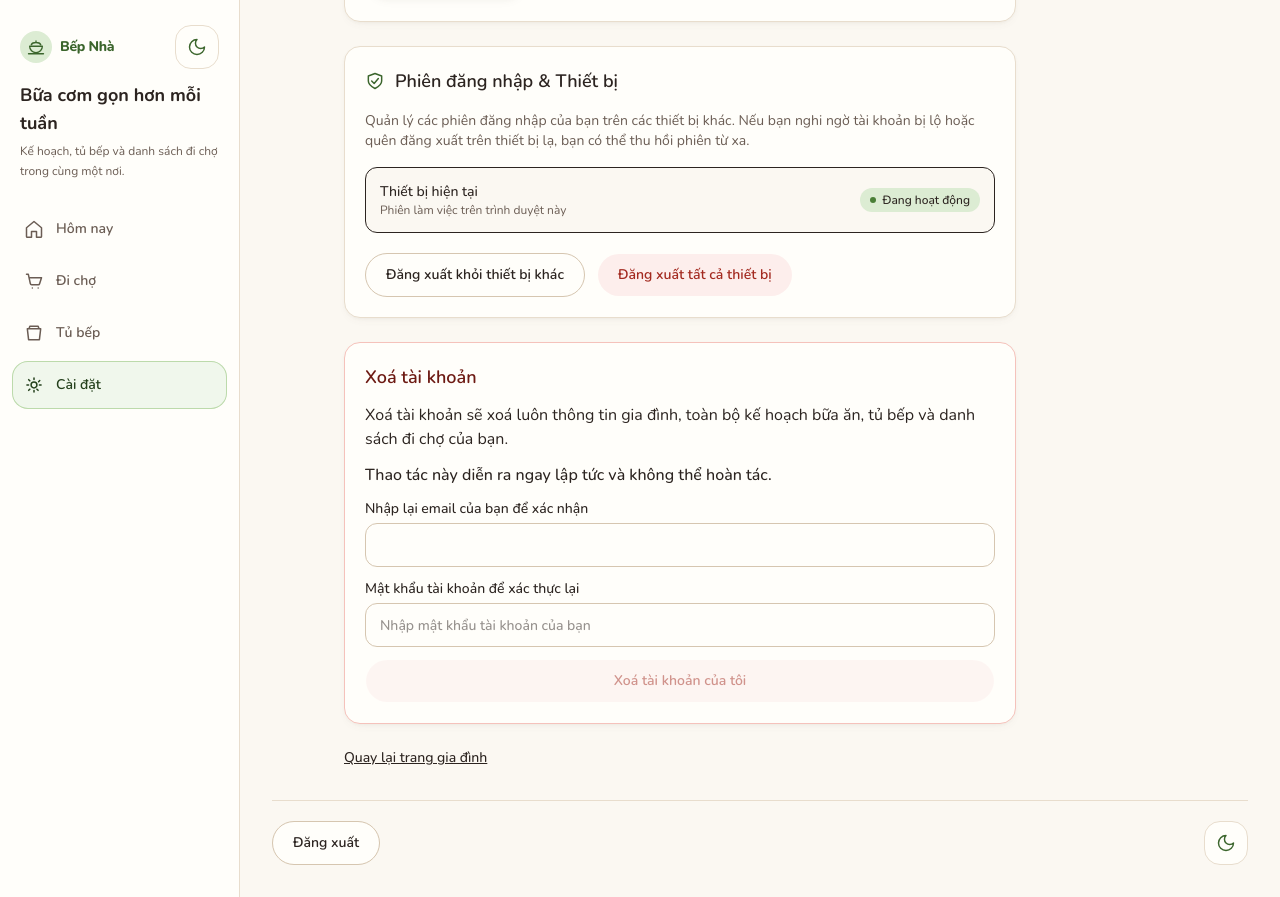
Test: account deletion › rejects deletion when security confirmation password is incorrect
(page scrolled)
In the field labelled "Nhập lại email của bạn để xác nhận": (680, 545) [365,523,995,567], type "chu-nha@example.com"
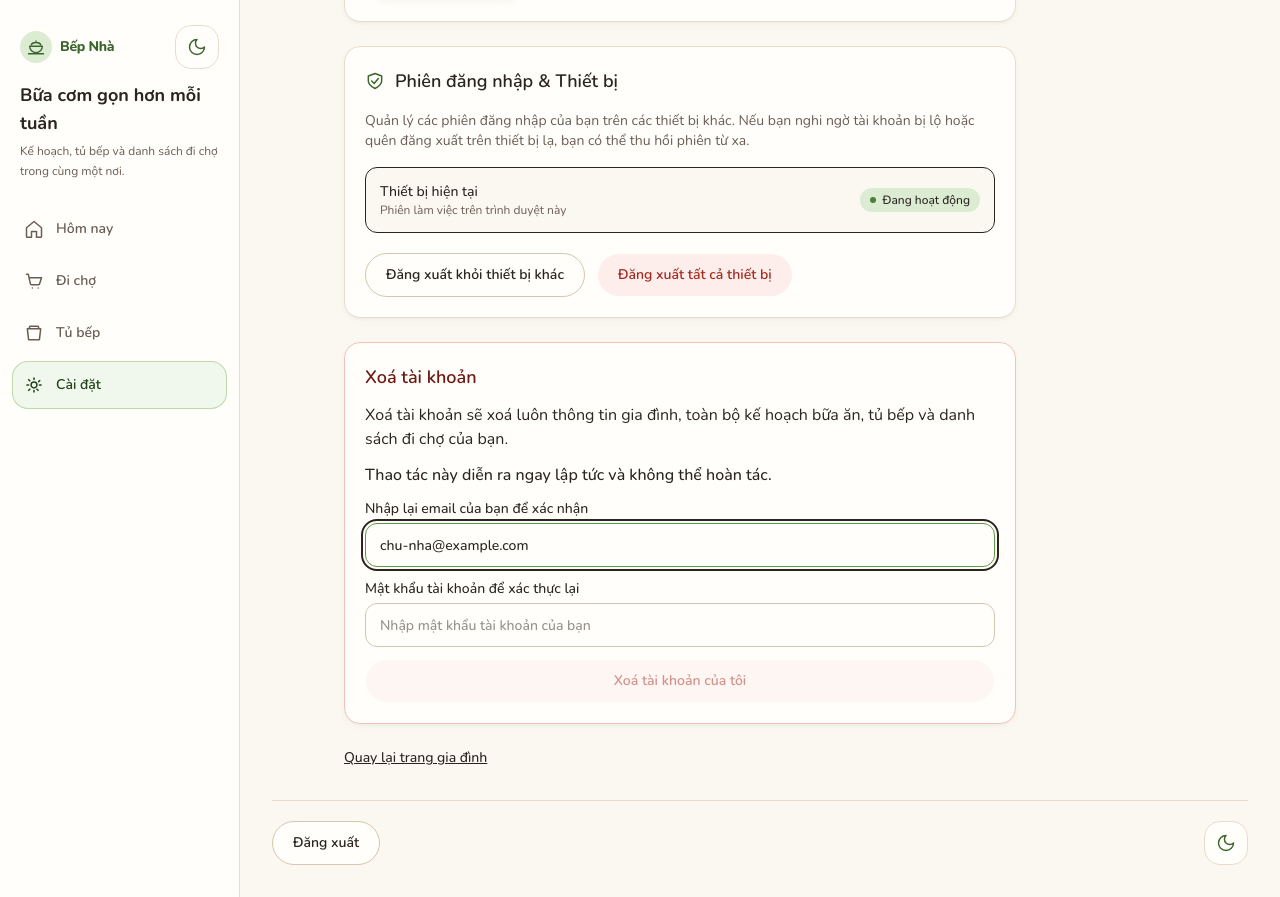
In the password field labelled "Mật khẩu tài khoản để xác thực lại": (680, 625) [365,603,995,647], type "wrong-pass"
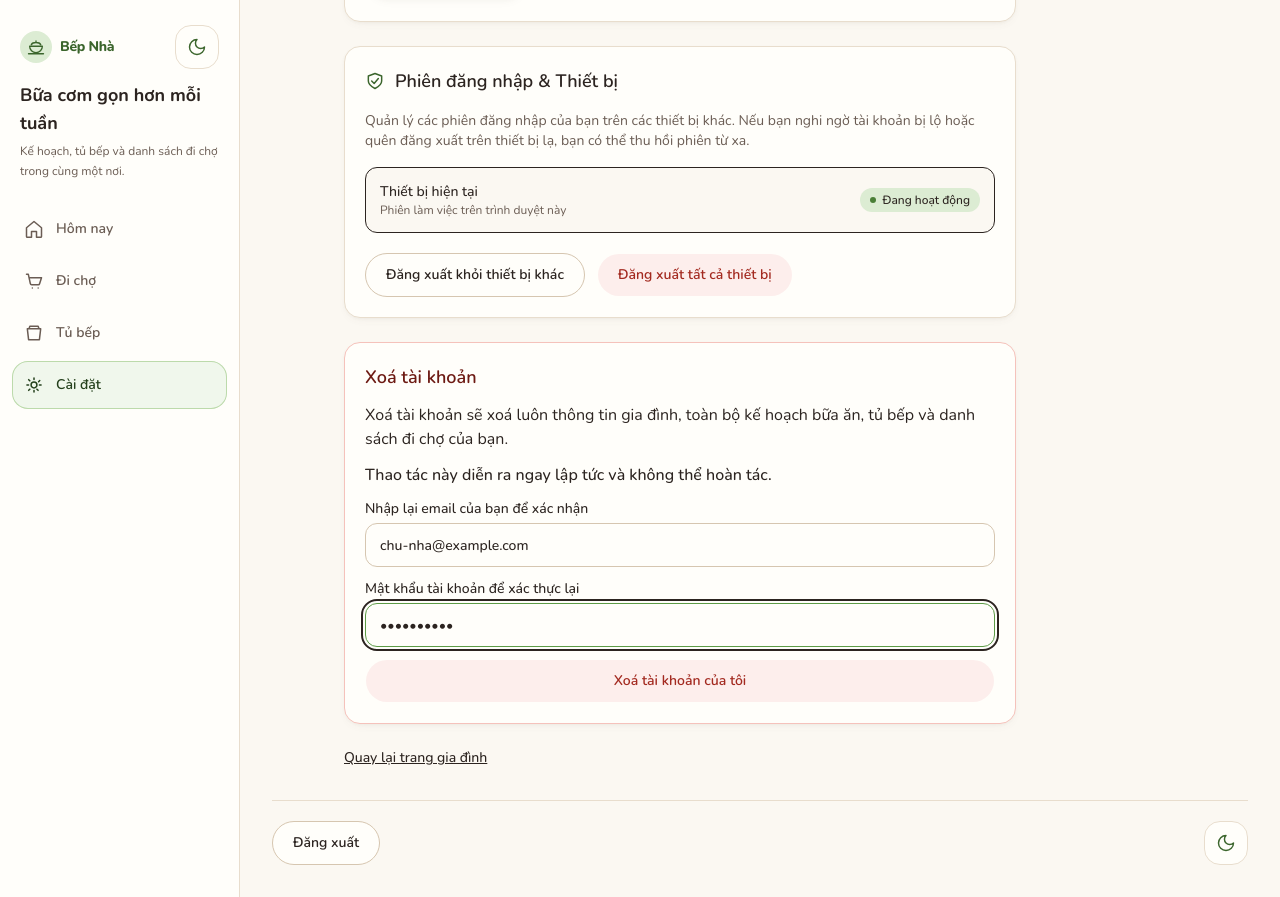
Click the button "Xoá tài khoản của tôi": (680, 681) [365,659,995,703]
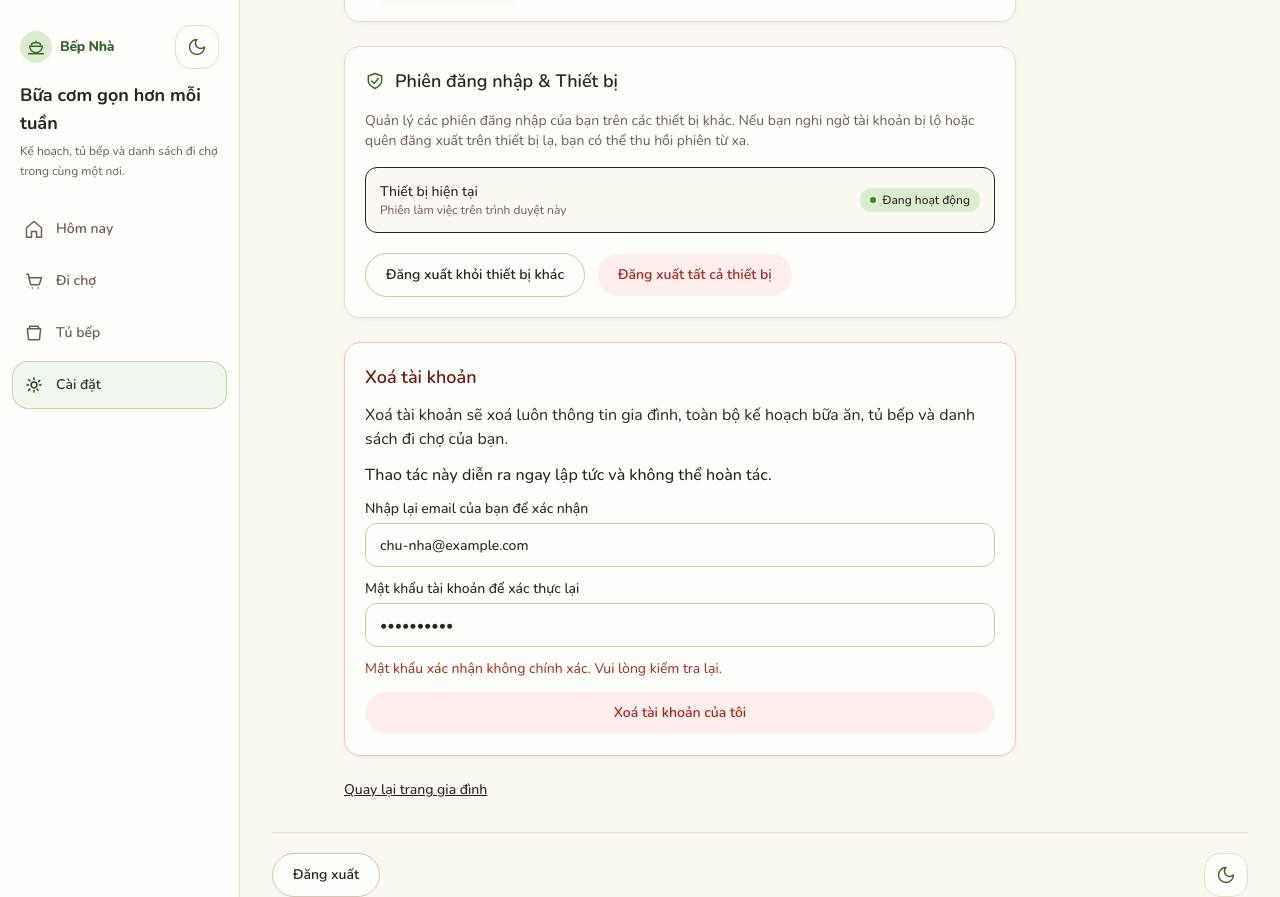
Result: the message shows "Mật khẩu xác nhận không chính xác" at [365,659,722,678]
